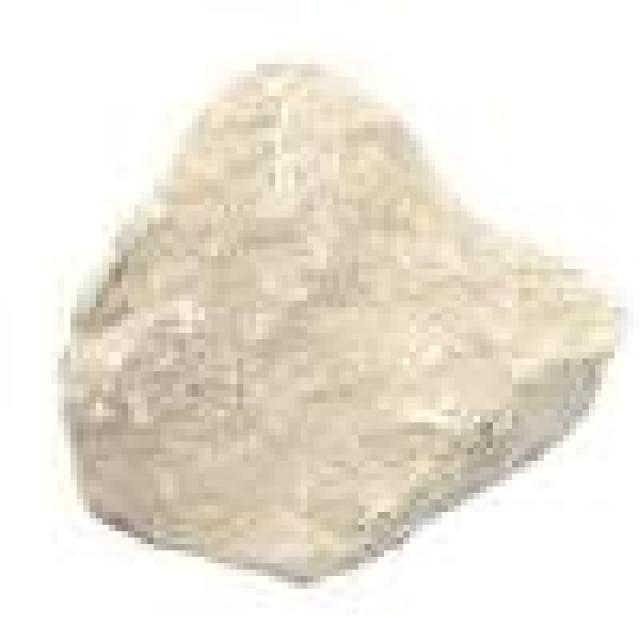Metamorphic: (45, 45, 627, 582)
